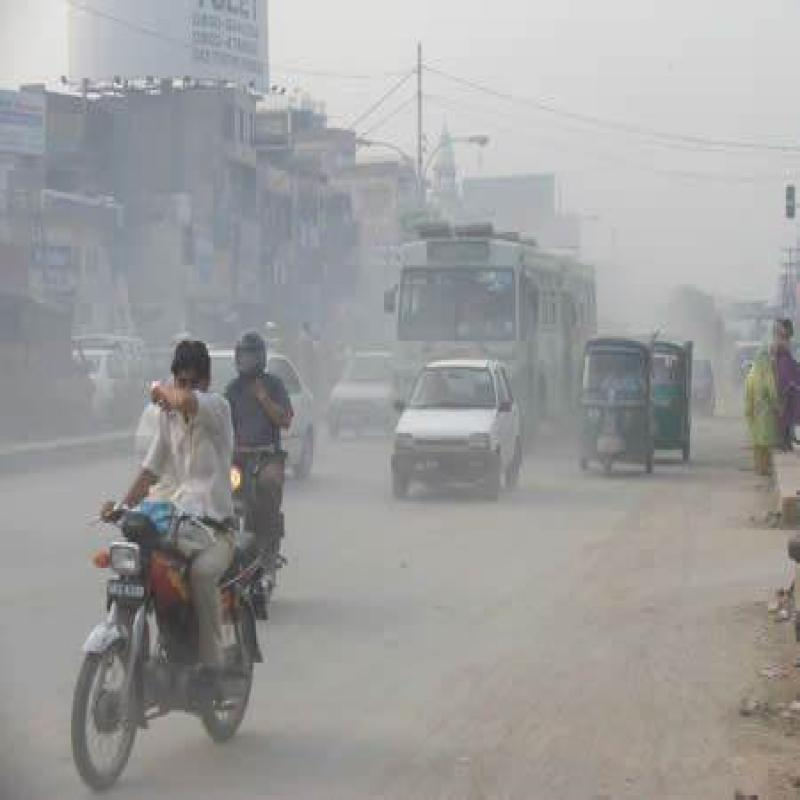auto: (572, 319, 656, 487), (653, 345, 706, 466)
bike: (68, 480, 281, 799)
bus: (390, 222, 613, 445)
car: (386, 356, 517, 515)
